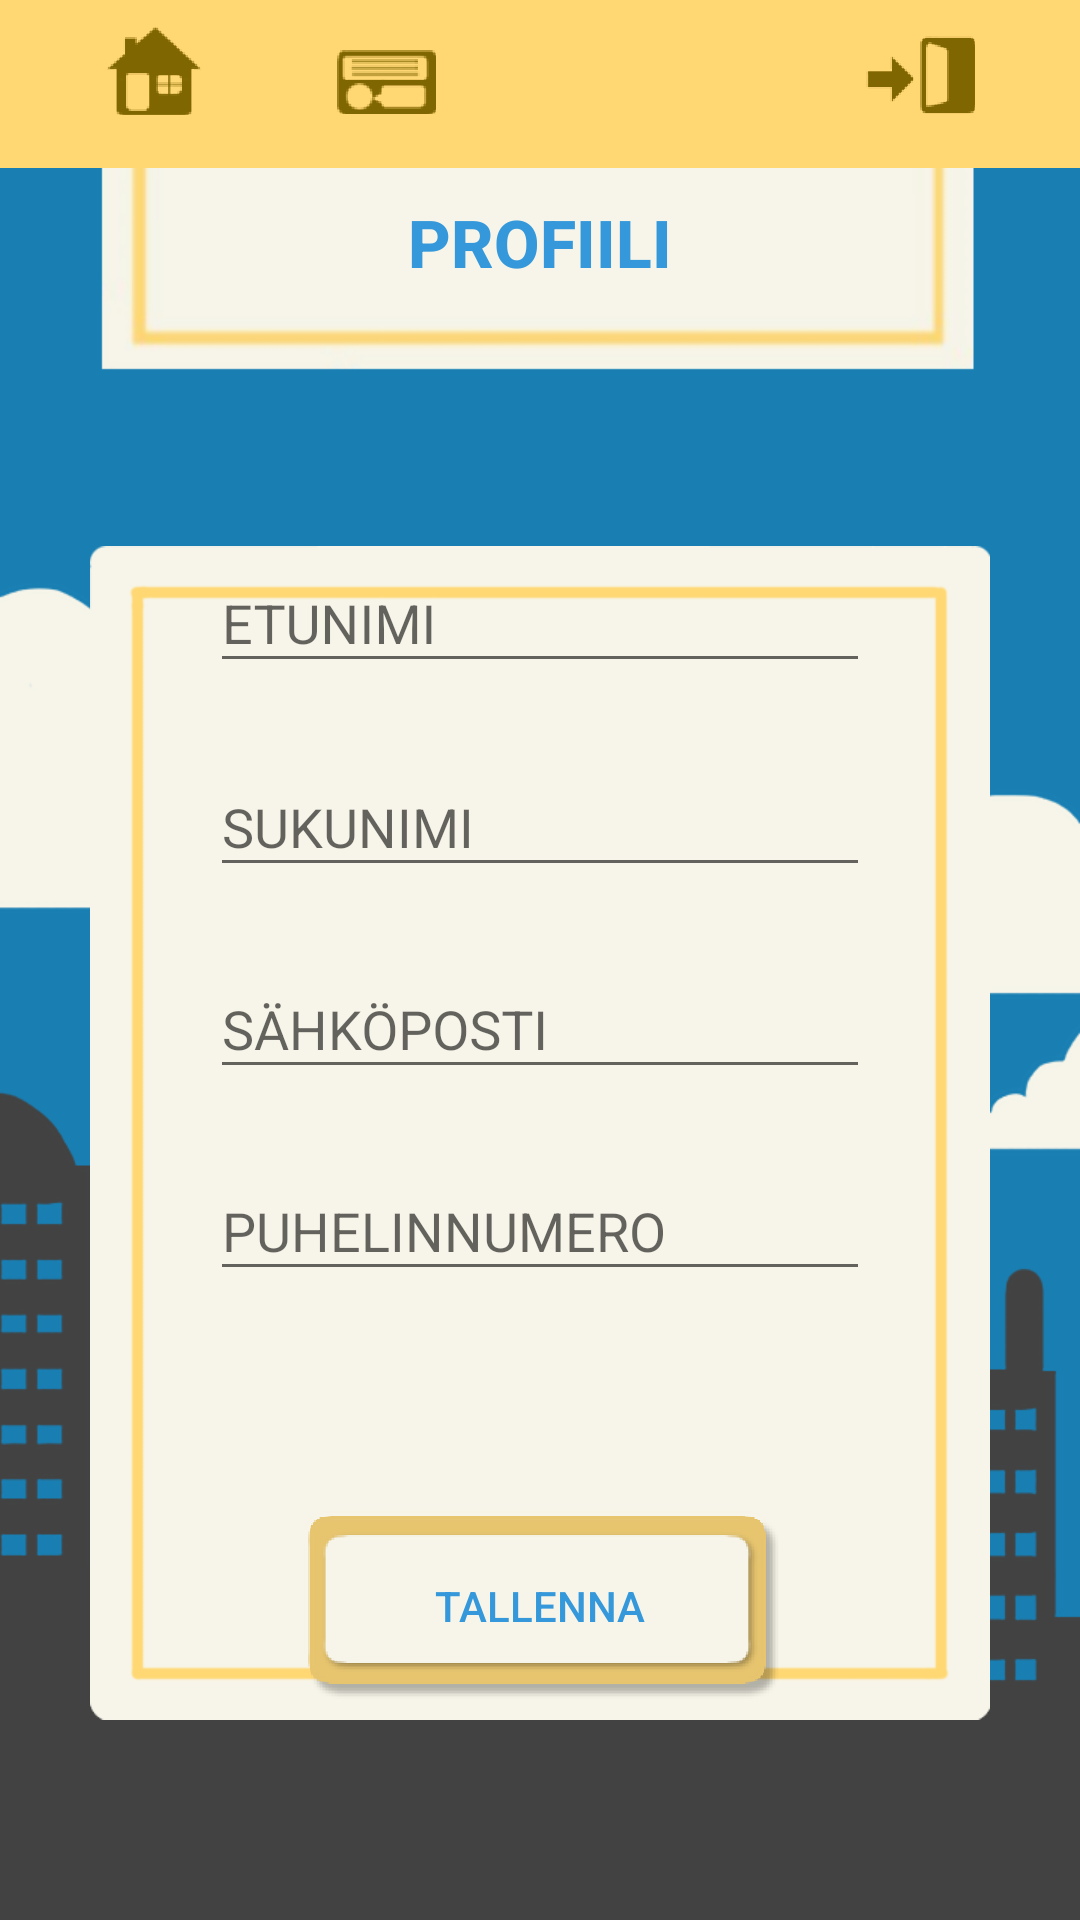

Screen size 1080x1920. Icon name, then its box in pixels as [x1,y1,x2,y2]:
feedbackicon: [337,50,436,114]
homeicon: [108,27,200,115]
